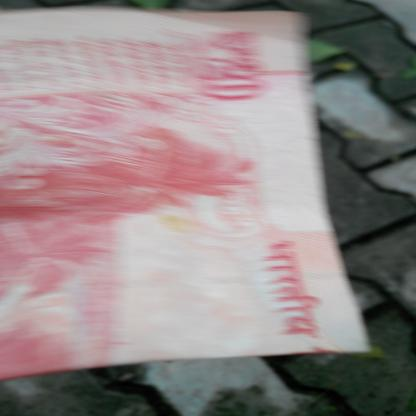Old20Back: (0, 10, 372, 381)
